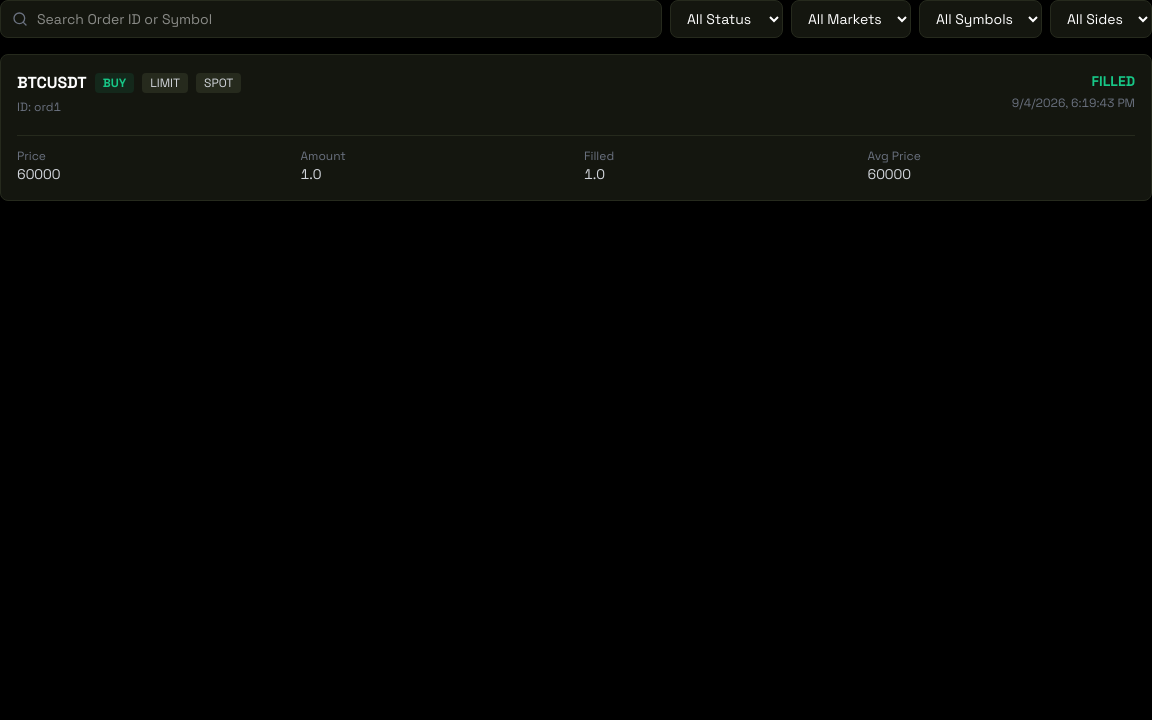
Test: OrderHistory Component (F21C) › 4. Order details modal shows fills
# Click on the order card
Step 1. Click the text "ID: ord1" → (39, 107), box [17,99,61,115]
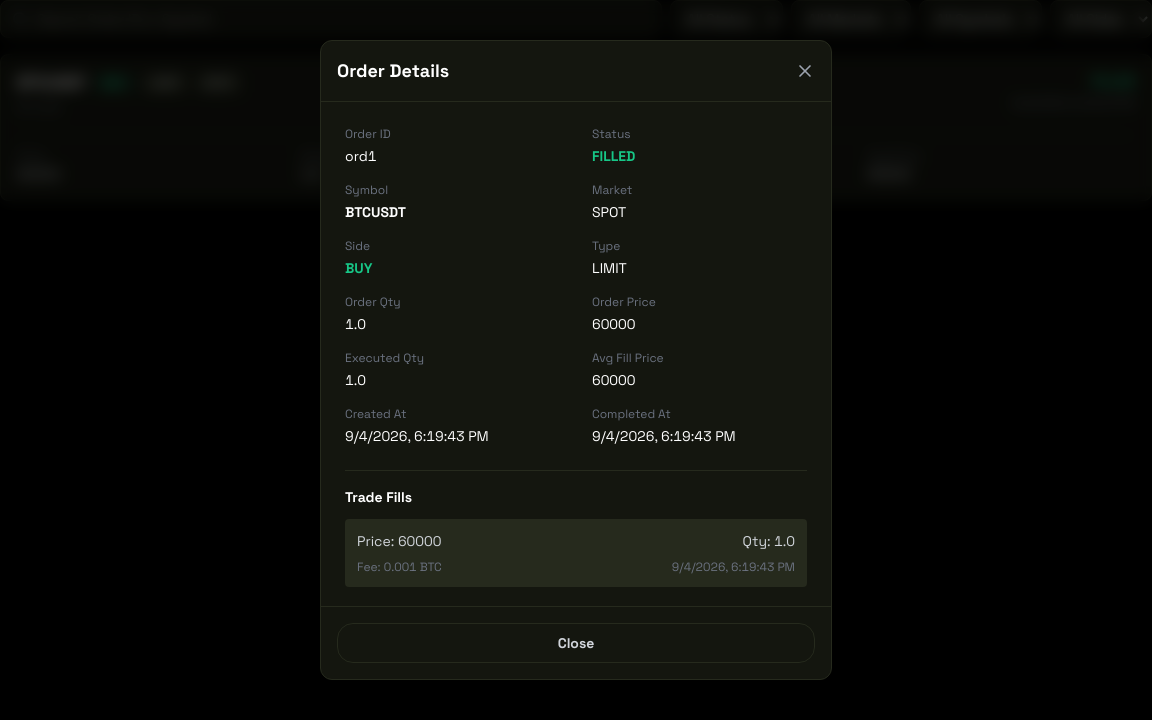
Expected: the heading "Order Details" is shown, [337,57,449,85]
Expected: the heading "Trade Fills" is shown, [345,470,807,507]
Expected: the text "Price: 60000" is shown, [357,531,441,551]
# Close modal
Step 2. Click the button "Close" → (576, 643), box [337,623,815,663]
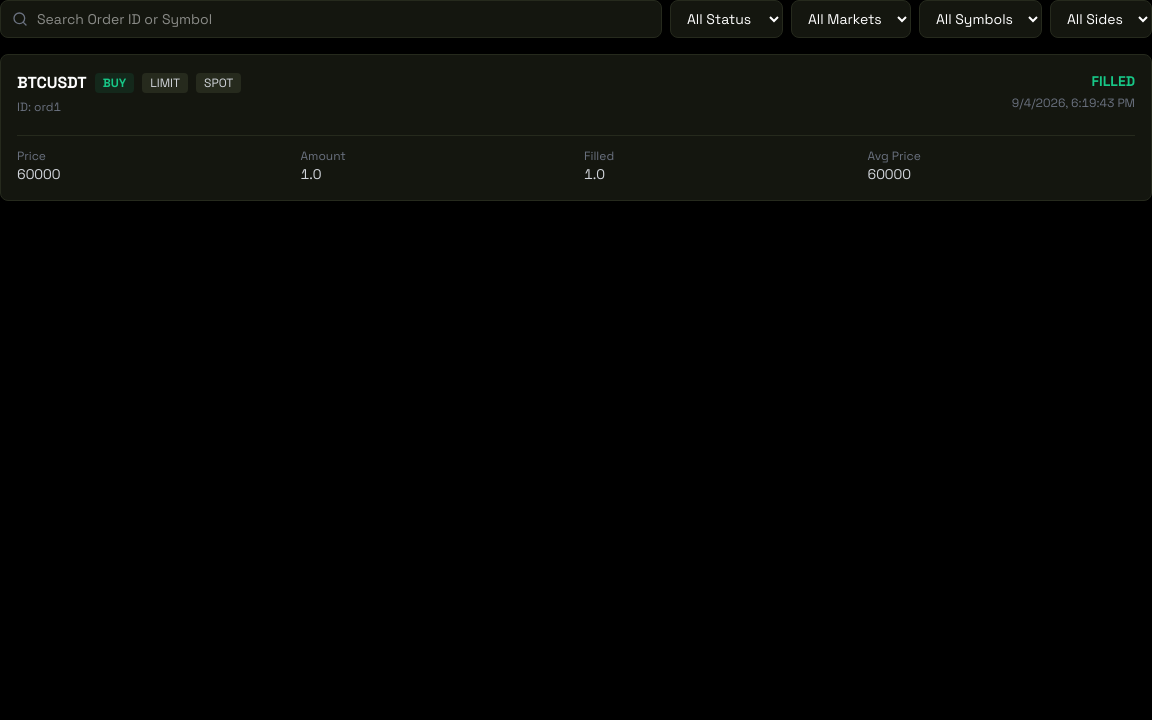
Expected: the heading "Order Details" is gone
